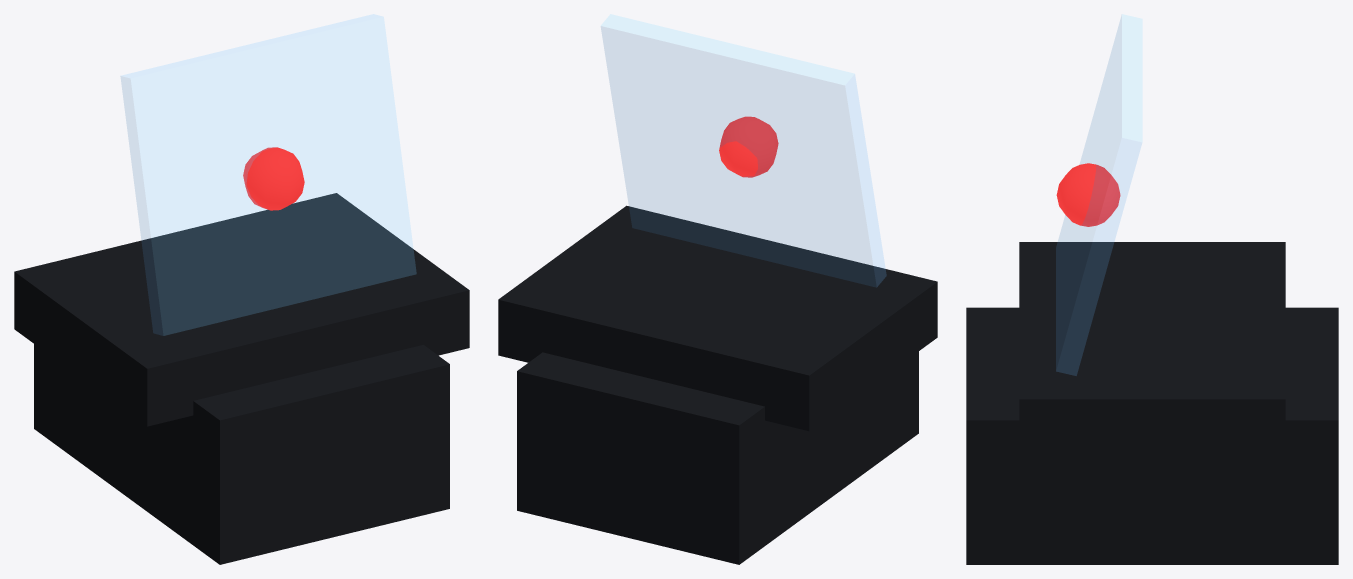
The model's file is attachment_assault_holo.glb.
3 views of the same model, side by side, from view 1: azimuth 30°, elevation 25°; view 2: azimuth 150°, elevation 25°; view 3: azimuth 270°, elevation 25° (orthographic). The views are drawn at different scales.
Parts seen in each view (by area): view 1: attachment_assault_holo__part_3, attachment_assault_holo__part_2, attachment_assault_holo__part_1, attachment_assault_holo__part_4; view 2: attachment_assault_holo__part_2, attachment_assault_holo__part_1, attachment_assault_holo__part_3, attachment_assault_holo__part_4; view 3: attachment_assault_holo__part_2, attachment_assault_holo__part_1, attachment_assault_holo__part_3, attachment_assault_holo__part_4.
Part boxes in pixels (bbox=[...]): attachment_assault_holo__part_3: bbox=[121, 14, 415, 335]; attachment_assault_holo__part_2: bbox=[14, 193, 469, 426]; attachment_assault_holo__part_1: bbox=[34, 344, 449, 564]; attachment_assault_holo__part_4: bbox=[243, 147, 304, 210]; attachment_assault_holo__part_2: bbox=[498, 205, 937, 431]; attachment_assault_holo__part_1: bbox=[517, 351, 918, 564]; attachment_assault_holo__part_3: bbox=[601, 14, 885, 286]; attachment_assault_holo__part_4: bbox=[719, 116, 778, 177]; attachment_assault_holo__part_2: bbox=[1019, 242, 1285, 457]; attachment_assault_holo__part_1: bbox=[966, 307, 1338, 564]; attachment_assault_holo__part_3: bbox=[1056, 14, 1141, 375]; attachment_assault_holo__part_4: bbox=[1056, 163, 1120, 226].
Size of the model in its own units: 0.07 by 0.0897 by 0.07.
